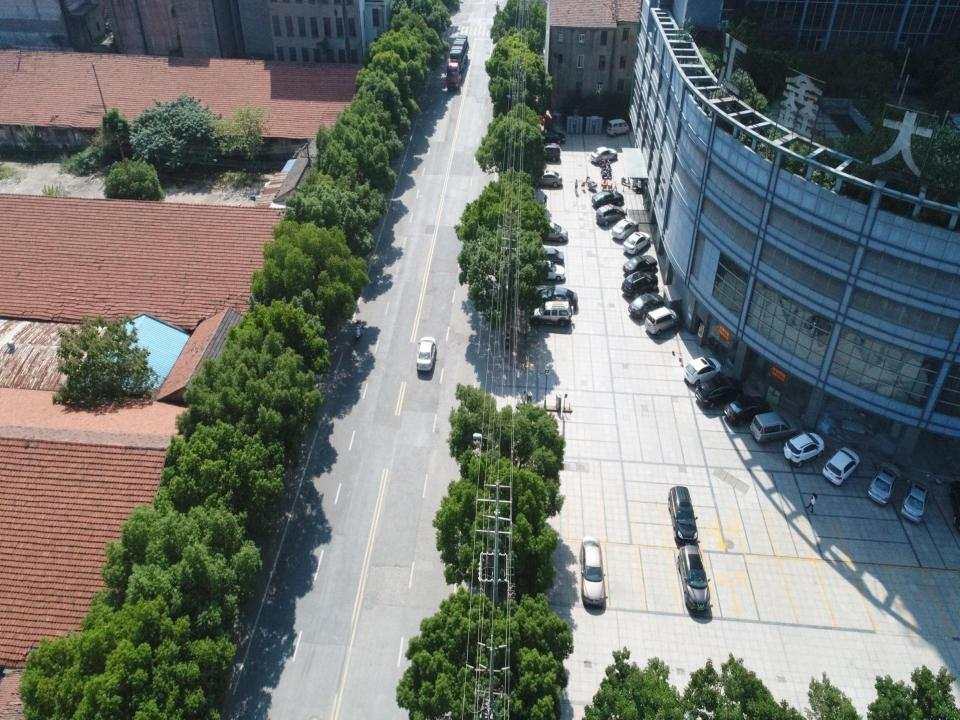car: (676, 542, 712, 615), (578, 534, 608, 608), (666, 484, 698, 546), (750, 411, 799, 445), (782, 430, 825, 468), (694, 377, 743, 410), (867, 460, 902, 506), (722, 395, 774, 425), (823, 446, 860, 486), (900, 479, 929, 522), (682, 357, 722, 387), (528, 300, 571, 326), (621, 269, 658, 297), (627, 292, 665, 319), (535, 287, 578, 309), (622, 255, 658, 279), (528, 260, 566, 281), (534, 219, 568, 242), (416, 333, 437, 370), (622, 231, 652, 255), (595, 204, 625, 227), (612, 218, 640, 240), (530, 247, 564, 265), (591, 190, 624, 208), (532, 129, 566, 146), (531, 169, 563, 187), (590, 146, 619, 165)
truck: (443, 34, 469, 89)
van: (644, 305, 680, 336), (534, 143, 560, 162), (606, 118, 630, 138)
